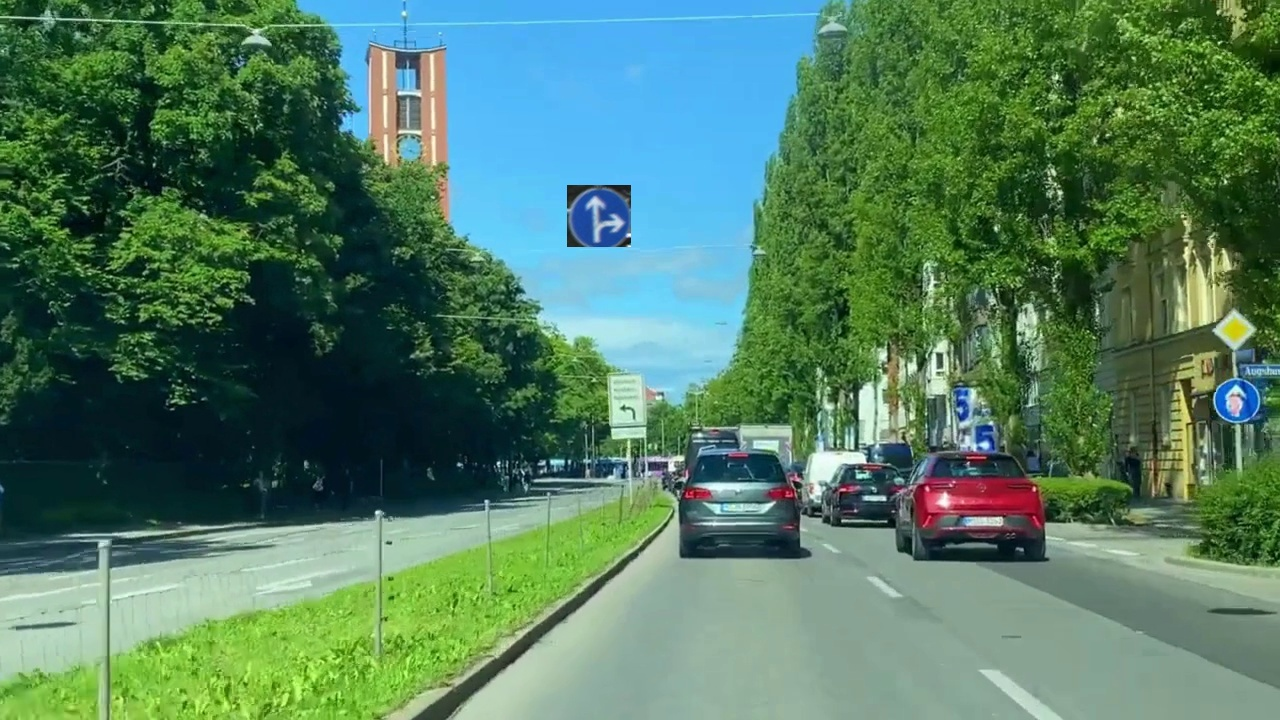Straight/right: (567, 185, 631, 247)
